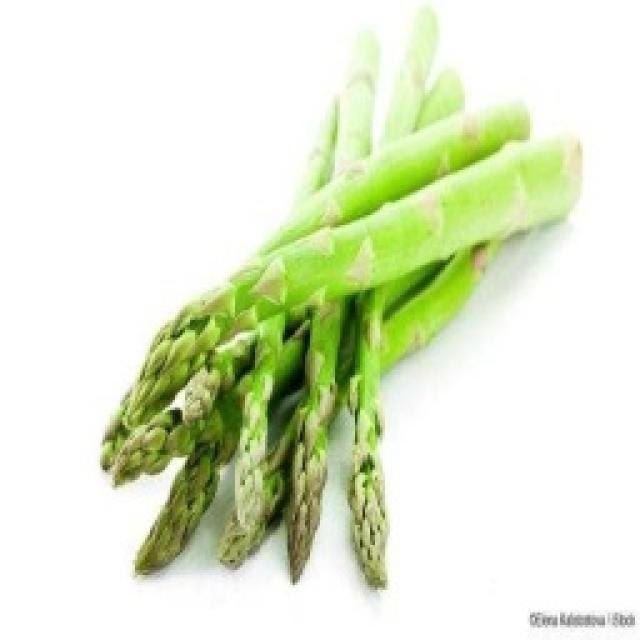Asparagus spear: (158, 55, 450, 605)
